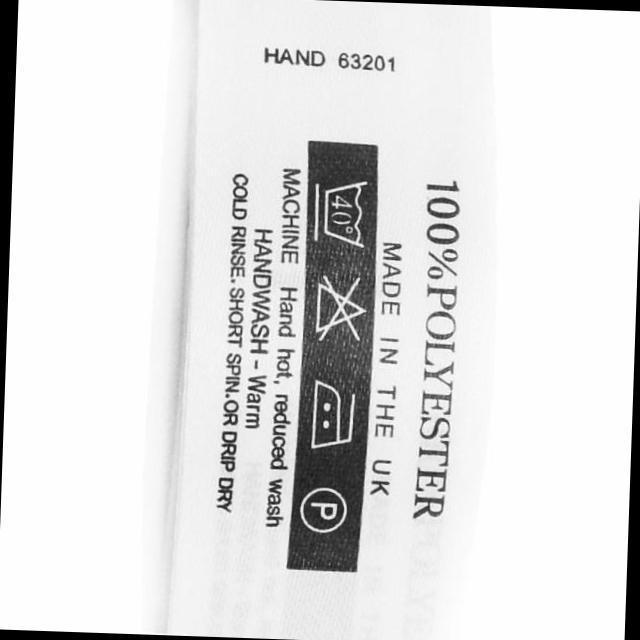40C: (300, 168, 378, 255)
DN_bleach: (306, 266, 371, 352)
iron_medium: (296, 372, 371, 454)
normal_dry_clean_solvents: (290, 478, 354, 538)
